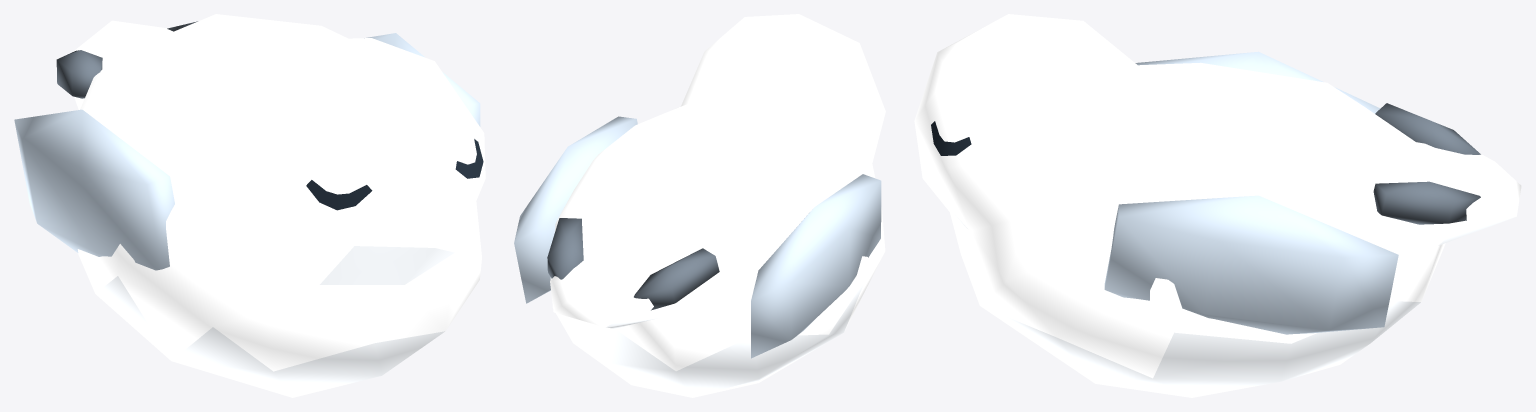
File: seabird-sleep.glb
The picture shows the model from 3 angles, left to right: view 1: azimuth 30°, elevation 25°; view 2: azimuth 150°, elevation 25°; view 3: azimuth 270°, elevation 25°; orthographic projection. The views are drawn at different scales.
Parts seen in each view (by area): view 1: seabird-sleep; view 2: seabird-sleep; view 3: seabird-sleep.
Boxes of the visible parts, left/top/right/bottom form: seabird-sleep: left=14, top=14, right=485, bottom=397; seabird-sleep: left=514, top=14, right=885, bottom=397; seabird-sleep: left=914, top=14, right=1521, bottom=397.
Size of the model in its own units: 0.52 by 0.5 by 0.81.
